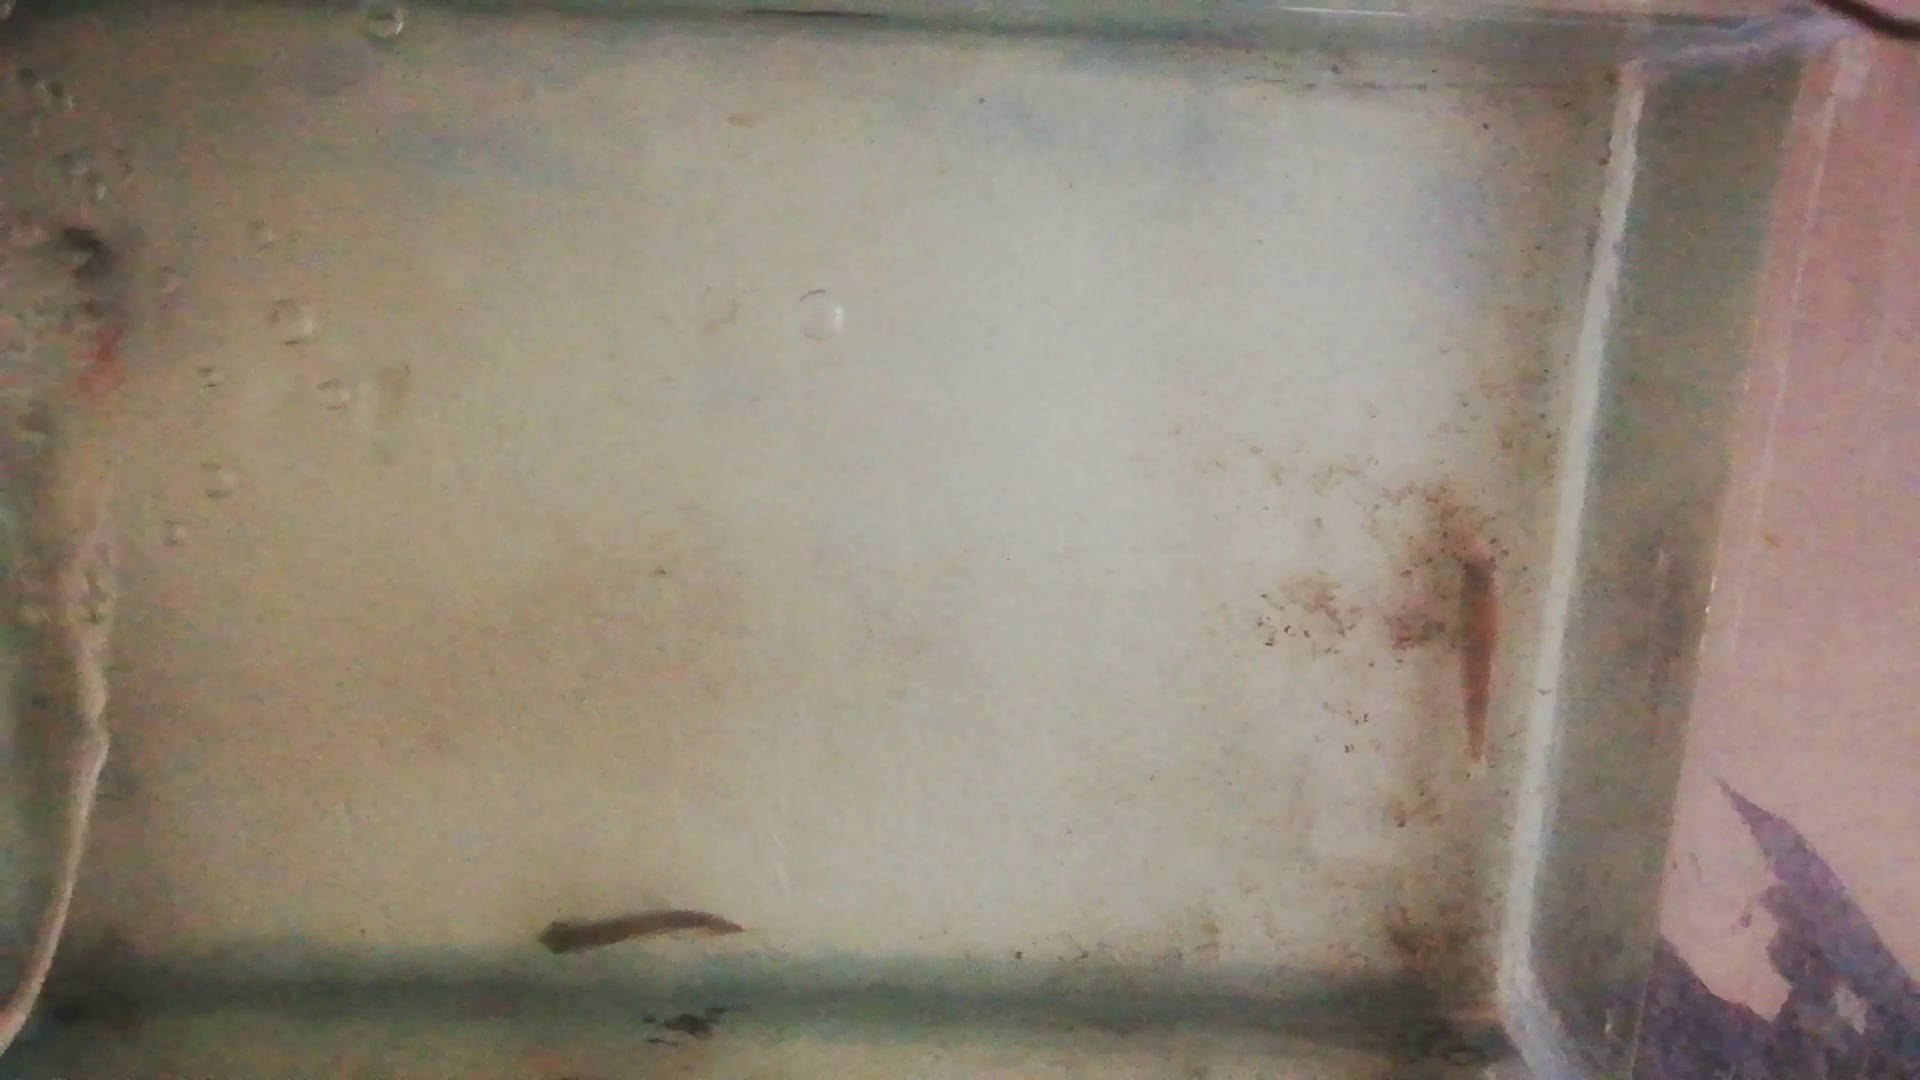fish: (1455, 539, 1498, 766), (535, 911, 742, 953)
